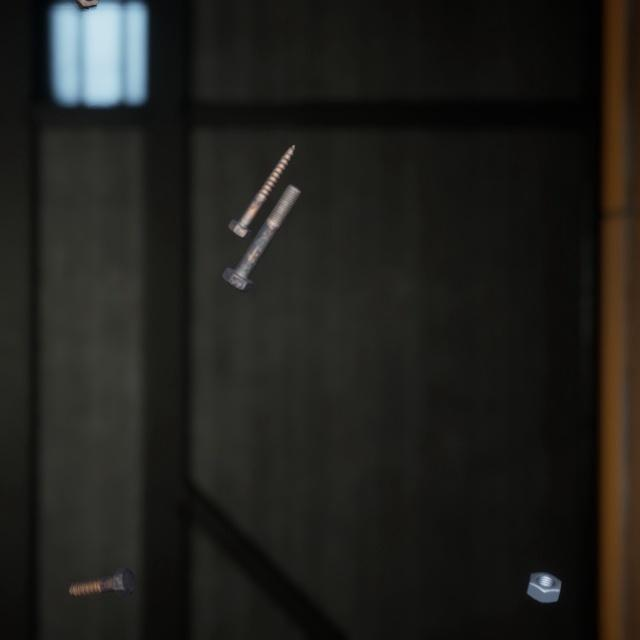bolt: (217, 163, 305, 280), (223, 124, 300, 228), (64, 539, 140, 579)
nut: (522, 544, 565, 583)
